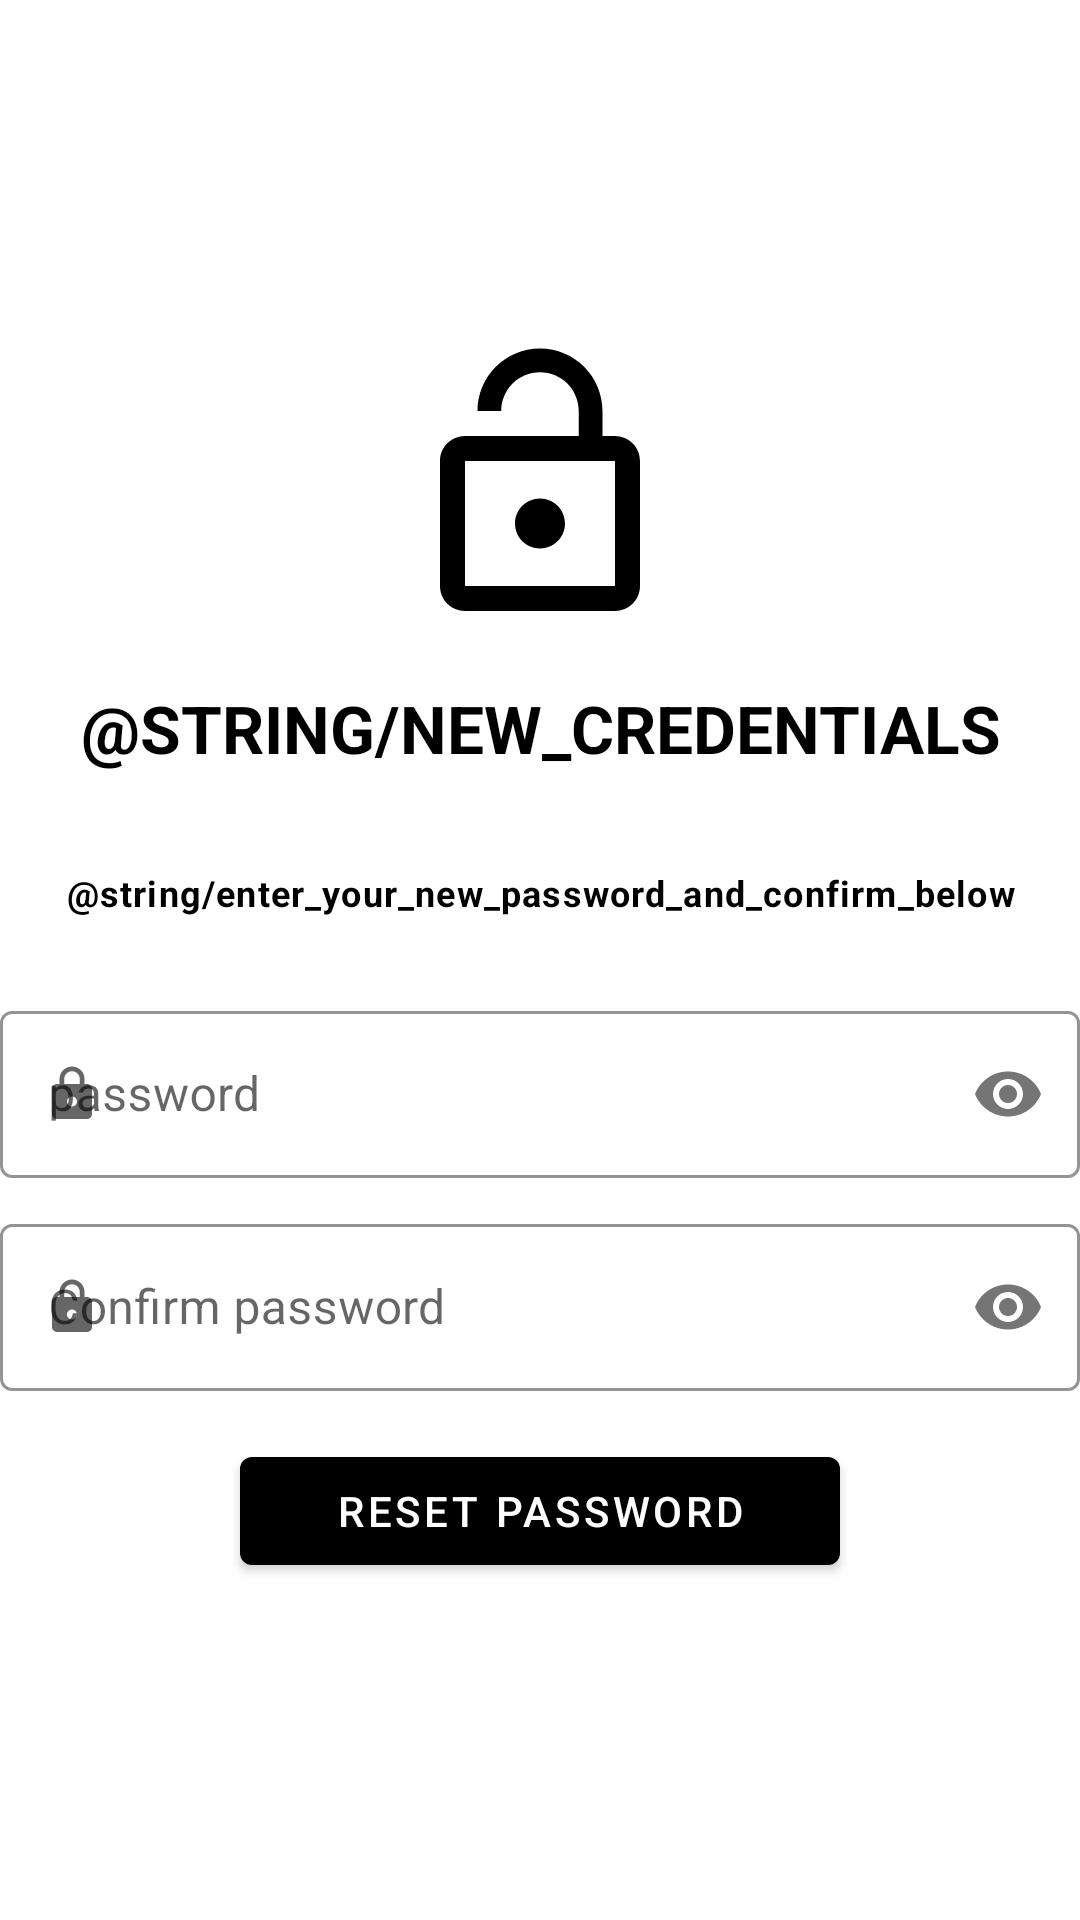

Screen size 1080x1920. Icon name, then its center in pixels as (x,y):
entry image: (540,479)
